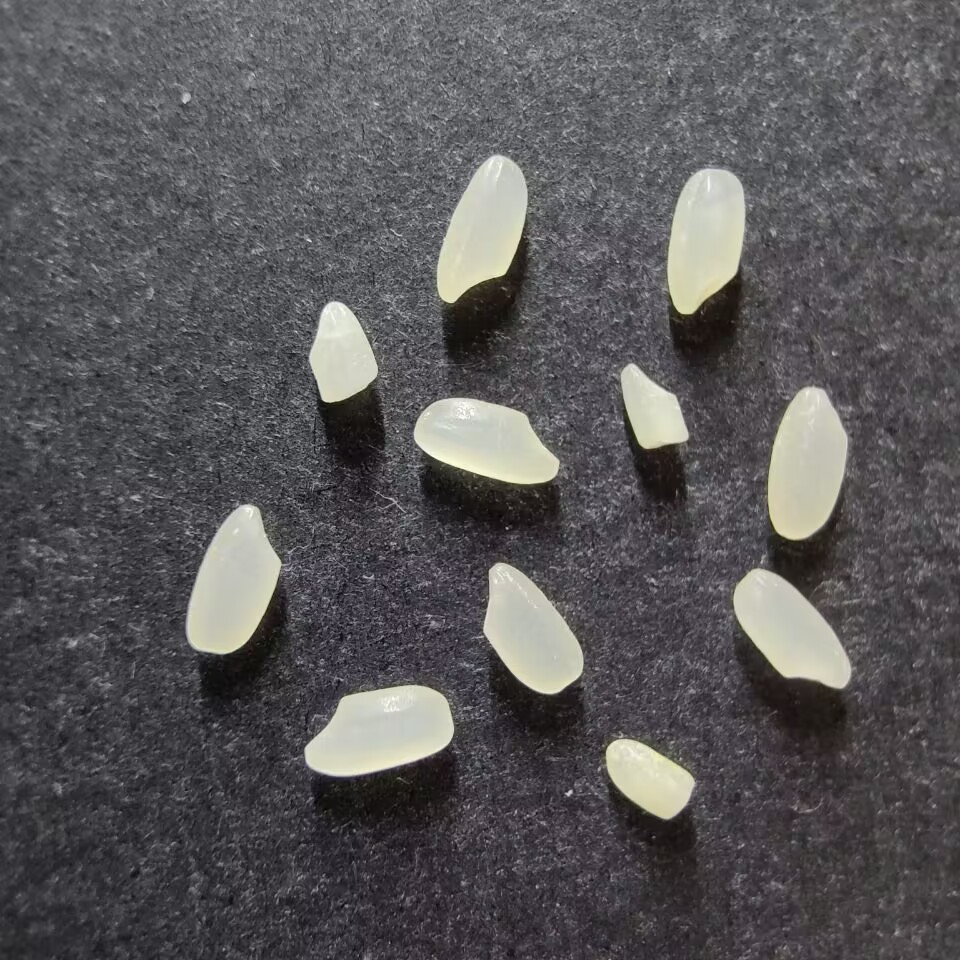broken: (308, 300, 379, 405), (605, 738, 695, 820), (620, 362, 690, 450)
rice: (733, 567, 853, 690), (186, 503, 282, 655), (436, 154, 528, 305), (304, 684, 455, 776), (483, 561, 585, 696), (413, 396, 561, 485), (767, 386, 850, 540), (667, 166, 747, 316)
